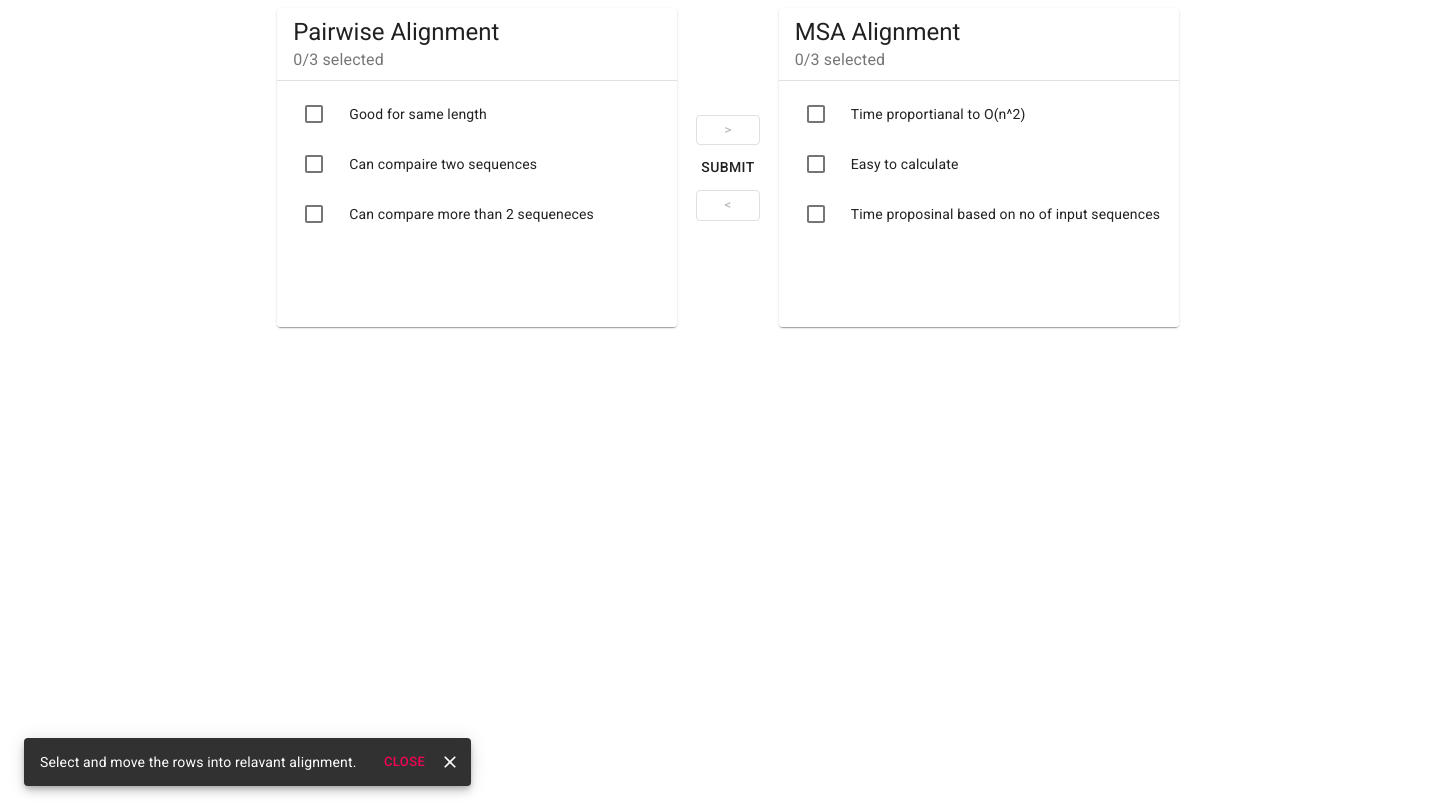
Test: Testing the Game component › simulate right answer
This screenshot has width=1440, height=810.
Click the icon next to "Time proportianal to O(n^2)" at coordinates (816, 114), box [804,102,828,126]
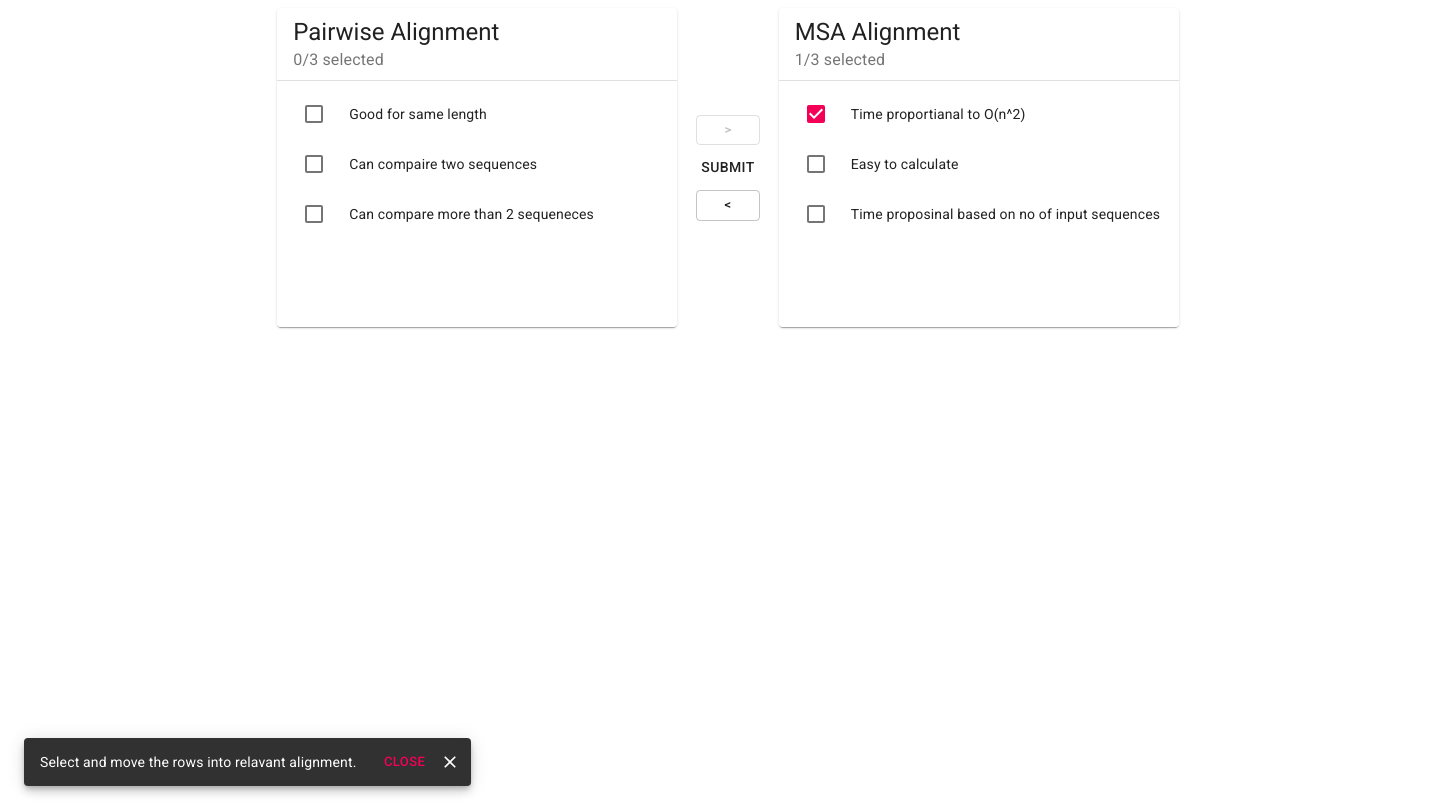
Click the button "<" at coordinates (728, 205), box [696,190,760,221]
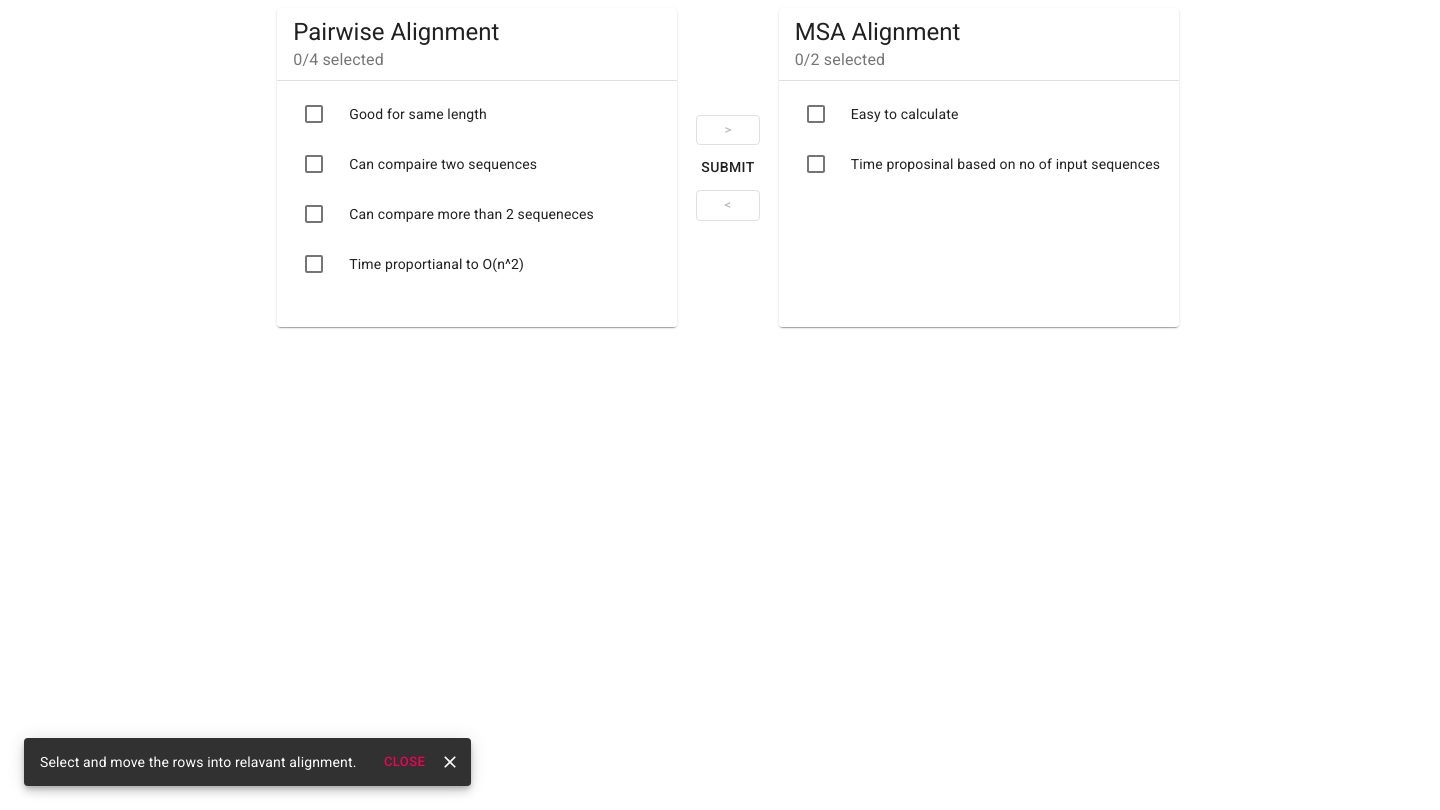
Click the button "Submit" at coordinates (728, 168), box [693,149,763,186]
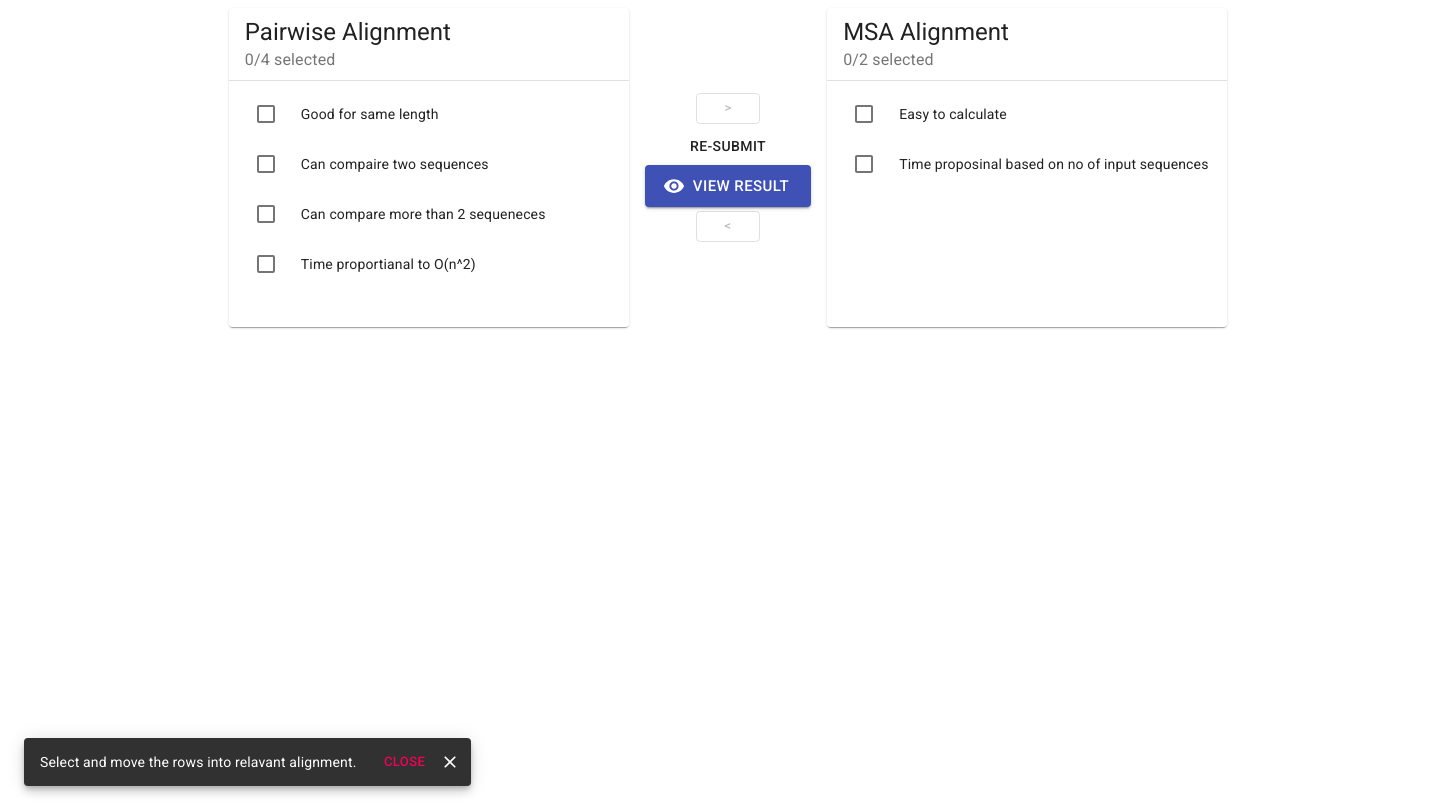
Check: the number of "CustomizedDialogs" components is 1, box [645,165,811,207]
